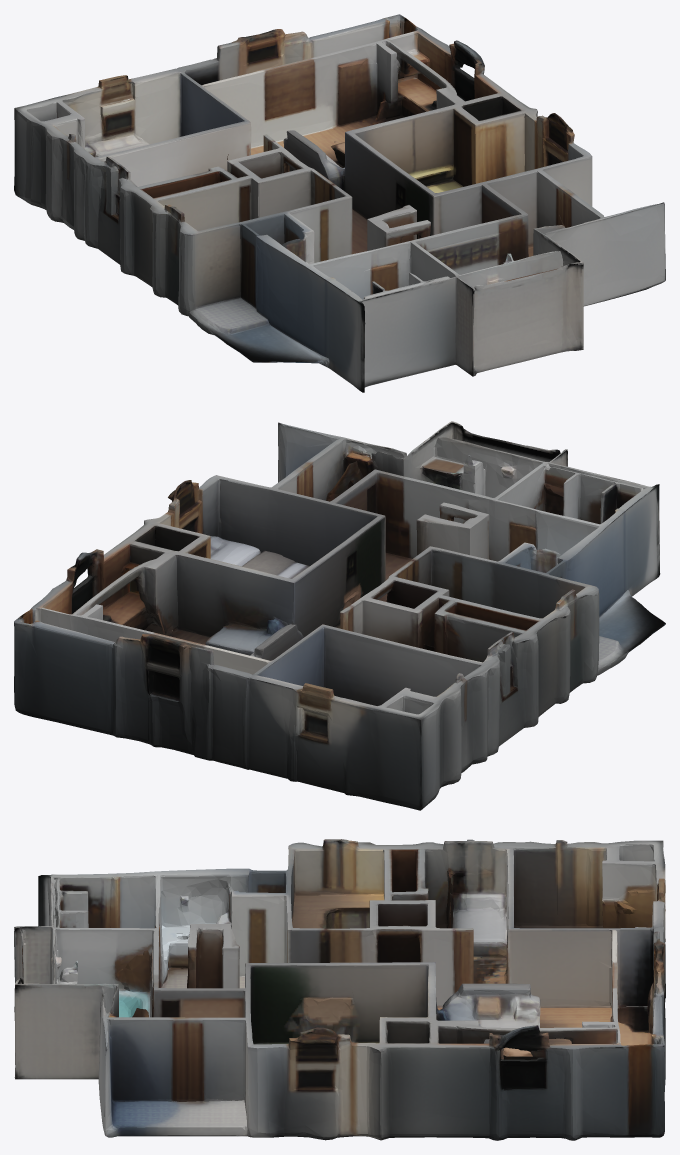
3 views of the same model, one above another, from view 1: azimuth 30°, elevation 25°; view 2: azimuth 150°, elevation 25°; view 3: azimuth 270°, elevation 25° (orthographic). The views are drawn at different scales.
Visible parts, largest first — view 1: world; view 2: world; view 3: world.
Part boxes in pixels (<box>): world: <box>14,14,665,392</box>; world: <box>14,421,665,810</box>; world: <box>14,839,665,1140</box>.
Bounding box in the file's own units: 0.7619 × 0.1957 × 1.
Materials: 1 (1 with a texture image).
